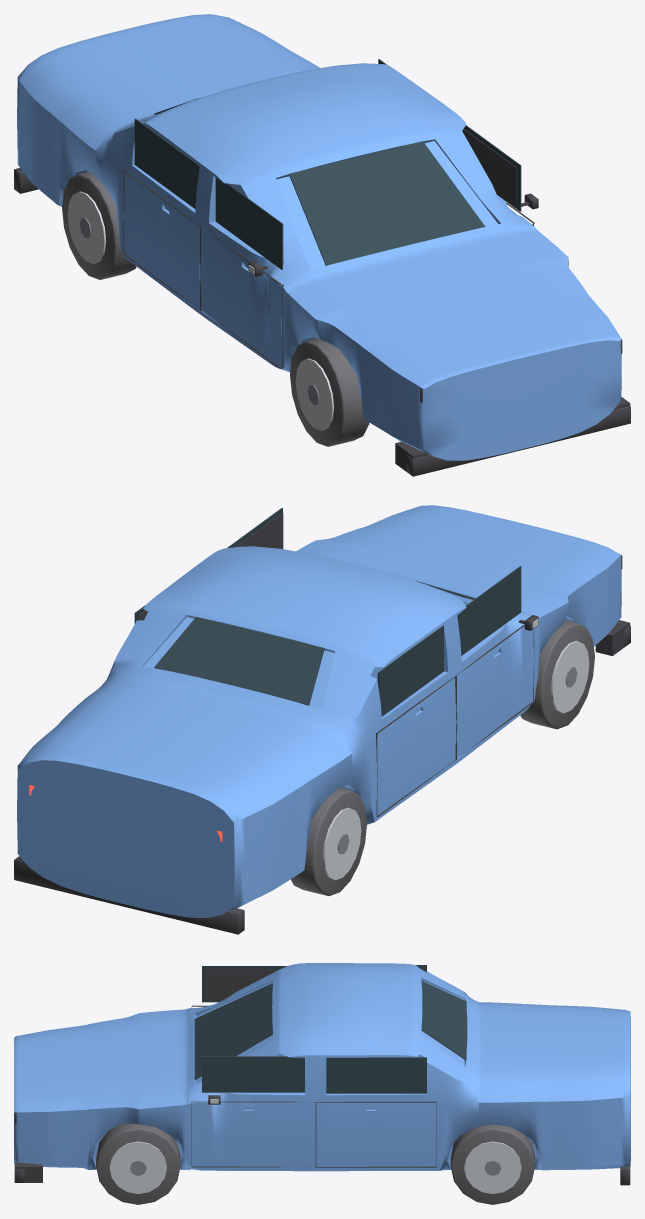
Rendered from Sedan_Midsize.fbx.
3 renders of one model, top to bottom at view 1: azimuth 30°, elevation 25°; view 2: azimuth 150°, elevation 25°; view 3: azimuth 270°, elevation 25°, orthographic. The views are drawn at different scales.
Parts seen in each view (by area): view 1: LOD0; view 2: LOD0; view 3: LOD0.
Boxes of the visible parts, left/top/right/bottom form: LOD0: left=14, top=14, right=630, bottom=476; LOD0: left=14, top=505, right=630, bottom=934; LOD0: left=14, top=963, right=630, bottom=1204.
Size of what is drawn, in the model's own units: 204 by 144 by 491.
